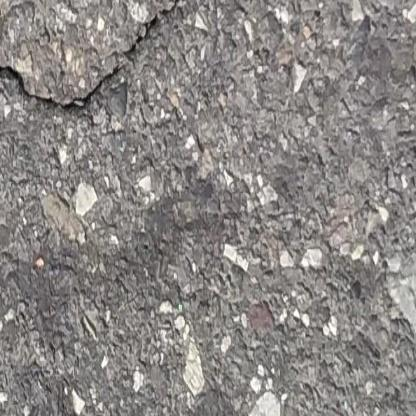Cracks: (0, 0, 211, 125)
